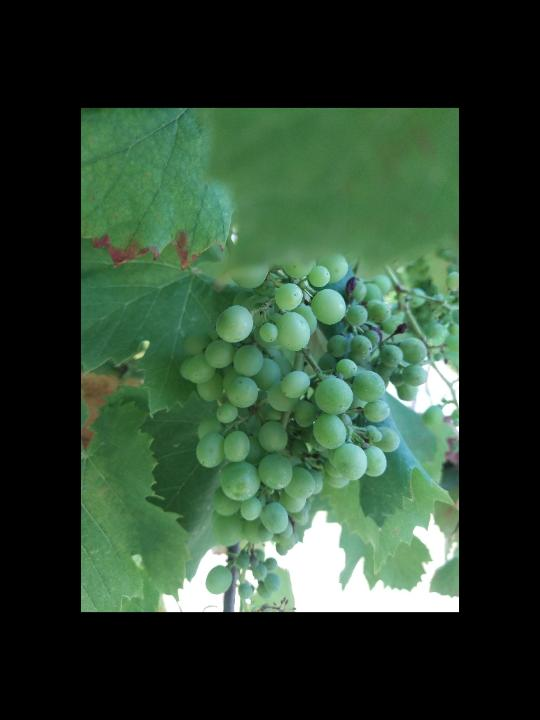grape: (179, 253, 430, 555)
